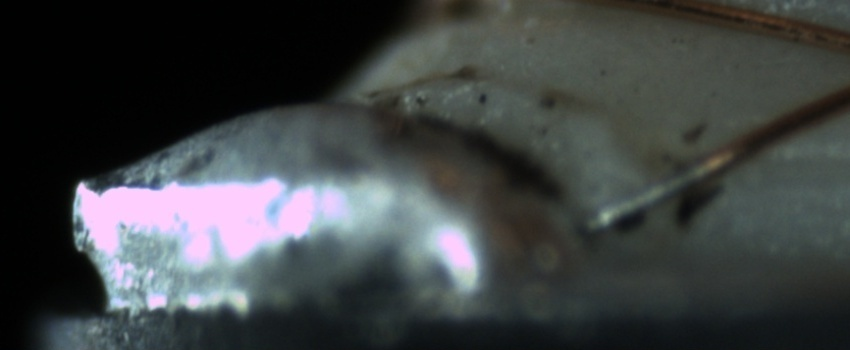DL: (753, 127, 850, 204)
TS: (579, 161, 705, 234)
